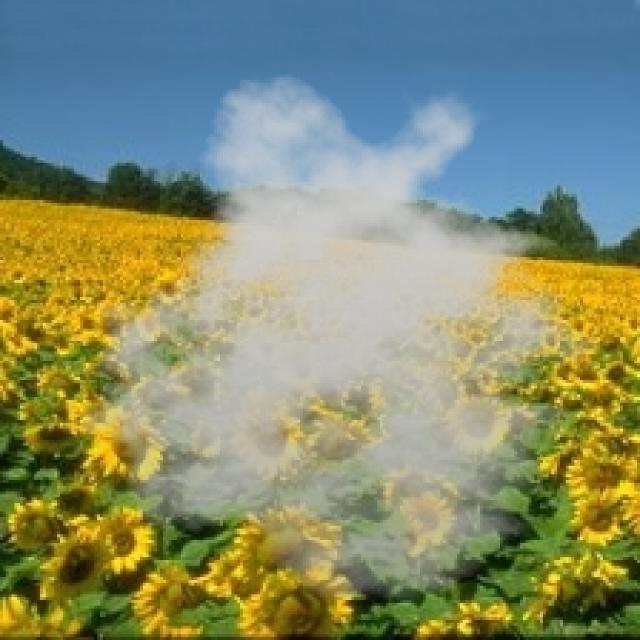smoke: (66, 71, 628, 603)
